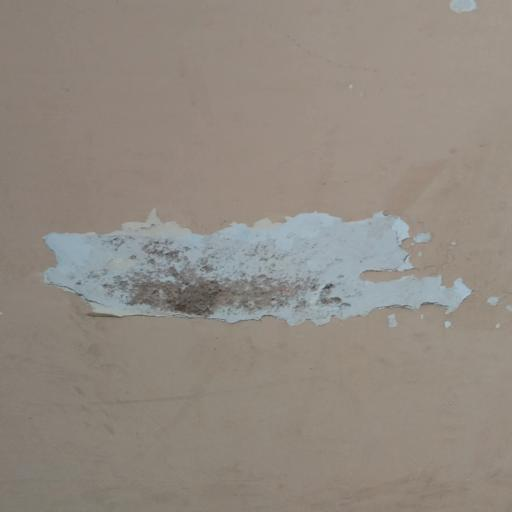peeling: (33, 209, 512, 332), (446, 0, 481, 26)
